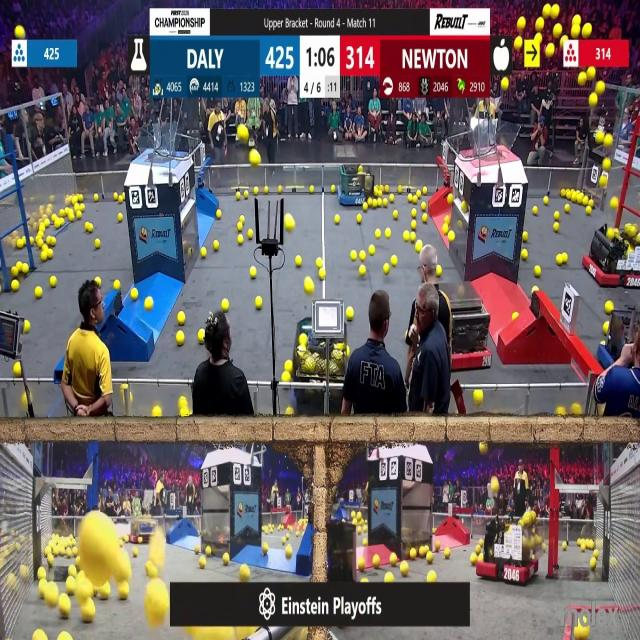ball_airborne: (77, 510, 119, 585), (144, 580, 168, 626), (238, 126, 248, 142), (250, 149, 260, 165), (583, 25, 592, 39), (14, 27, 24, 39), (577, 72, 586, 85), (596, 83, 605, 96), (588, 67, 597, 80), (554, 25, 562, 39), (491, 478, 499, 492), (570, 27, 579, 39), (536, 19, 544, 32), (545, 43, 553, 56), (590, 94, 598, 107), (596, 132, 604, 145), (552, 4, 560, 17), (516, 37, 524, 49), (604, 135, 612, 147), (518, 19, 526, 31), (542, 4, 549, 17), (524, 59, 532, 70), (600, 175, 607, 187), (603, 159, 610, 171), (610, 198, 617, 210), (501, 78, 508, 90), (532, 57, 539, 69), (572, 15, 581, 24), (534, 34, 542, 44), (481, 444, 488, 455)
ball_ground: (60, 596, 71, 618), (84, 602, 96, 622), (574, 627, 586, 640), (118, 585, 128, 600), (100, 586, 110, 601), (67, 580, 76, 596), (36, 580, 45, 596), (241, 565, 250, 580), (284, 215, 293, 230), (306, 278, 314, 294), (473, 390, 482, 404), (400, 561, 408, 576), (146, 565, 156, 577), (144, 296, 152, 310), (426, 571, 436, 582), (198, 329, 206, 342), (356, 557, 364, 570), (152, 408, 161, 419), (34, 631, 45, 640), (177, 333, 184, 347), (178, 312, 185, 326), (572, 406, 580, 418), (284, 360, 292, 372), (13, 362, 20, 375), (390, 554, 397, 567), (385, 572, 394, 582), (10, 268, 18, 279), (347, 308, 354, 320), (221, 300, 228, 312), (132, 288, 139, 300), (605, 302, 612, 314), (11, 280, 18, 292), (250, 268, 257, 280), (411, 549, 418, 561), (374, 556, 381, 568), (556, 254, 564, 264), (47, 237, 55, 247), (557, 408, 565, 418), (298, 336, 306, 346), (179, 396, 187, 406), (24, 320, 30, 333), (35, 287, 42, 298), (200, 557, 207, 568), (426, 553, 433, 564), (38, 568, 45, 579), (60, 633, 71, 640), (435, 266, 441, 278), (255, 296, 261, 308), (222, 554, 228, 566), (416, 241, 422, 253), (359, 266, 365, 278), (282, 373, 290, 382), (286, 544, 292, 556), (368, 199, 376, 208), (49, 277, 56, 287), (316, 257, 323, 267), (445, 549, 452, 559), (590, 560, 597, 570), (419, 548, 426, 558), (69, 566, 76, 576), (522, 249, 528, 260), (384, 265, 390, 276), (213, 238, 219, 249), (470, 555, 476, 566), (46, 249, 52, 260), (286, 409, 293, 418), (180, 409, 187, 418), (114, 280, 120, 290), (319, 270, 325, 280), (403, 232, 409, 242), (523, 232, 529, 242), (376, 230, 382, 240), (534, 268, 540, 278), (563, 252, 568, 264), (206, 545, 212, 555), (264, 542, 270, 552), (23, 265, 29, 275), (604, 322, 609, 334), (359, 250, 365, 260), (351, 250, 357, 260), (448, 193, 454, 203), (60, 218, 66, 228), (34, 238, 41, 246), (391, 255, 396, 266), (368, 246, 374, 255), (412, 209, 418, 218), (95, 240, 101, 249), (96, 278, 102, 287), (449, 233, 455, 242), (412, 233, 418, 242), (422, 214, 428, 223), (40, 252, 46, 261), (362, 537, 368, 546), (88, 222, 94, 231), (238, 236, 244, 245), (378, 199, 384, 208), (295, 256, 300, 266), (202, 248, 207, 258), (393, 210, 398, 220), (445, 223, 450, 233), (554, 222, 560, 230), (356, 215, 362, 223), (542, 198, 548, 206), (532, 207, 538, 215), (362, 204, 368, 212), (555, 212, 561, 220), (237, 222, 243, 230), (564, 205, 570, 213), (587, 207, 593, 215), (94, 193, 100, 201), (309, 185, 315, 193), (435, 540, 441, 548), (68, 214, 74, 222), (277, 185, 283, 193), (78, 193, 84, 201), (253, 186, 259, 194), (356, 526, 362, 534), (74, 204, 80, 212), (386, 230, 391, 239), (412, 220, 417, 229), (248, 231, 253, 240), (216, 210, 221, 219), (336, 215, 341, 224), (118, 193, 123, 202), (571, 191, 576, 200), (361, 576, 367, 583), (445, 216, 451, 223), (194, 544, 199, 552), (237, 191, 242, 199), (244, 190, 249, 198), (421, 203, 426, 211), (383, 200, 388, 208), (562, 541, 567, 549), (76, 212, 81, 220), (134, 550, 139, 558), (474, 544, 479, 552), (362, 526, 367, 534), (61, 209, 66, 217), (409, 193, 413, 202), (579, 544, 585, 550), (387, 195, 392, 202), (330, 185, 335, 192), (423, 187, 428, 194), (240, 215, 245, 222), (265, 186, 270, 193), (79, 205, 84, 212), (584, 619, 589, 626), (417, 189, 422, 196), (384, 185, 389, 192), (120, 214, 124, 222), (514, 312, 518, 320), (282, 536, 286, 544), (114, 192, 118, 200), (561, 188, 565, 196), (432, 528, 435, 534)
goal: (466, 121, 521, 159), (130, 130, 189, 160)
robot_blue: (290, 318, 344, 404), (339, 162, 372, 205)
robot_red: (479, 513, 541, 584), (448, 294, 490, 370), (589, 225, 640, 287), (130, 514, 156, 544)
